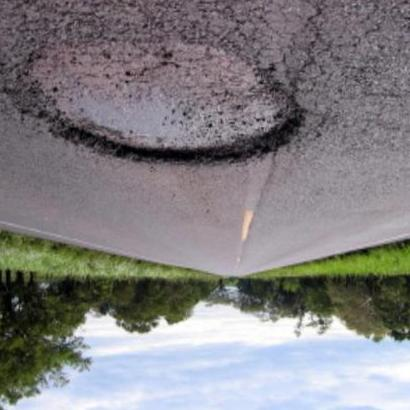pothole: (8, 22, 322, 195)
